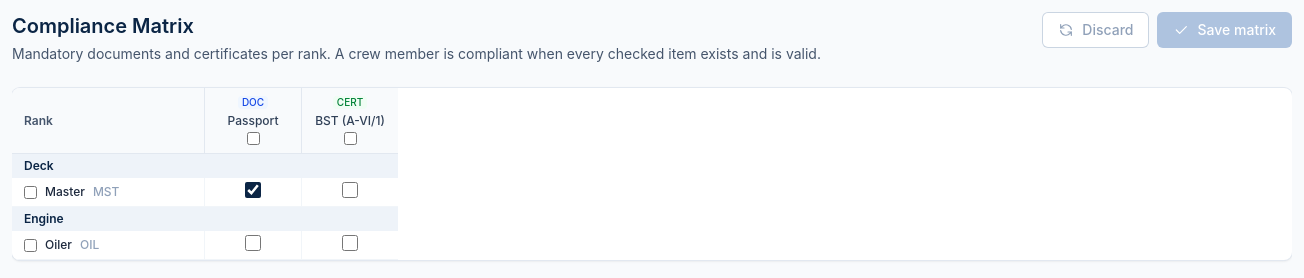
Scenario: compliance matrix › selects a whole row with the row checkbox
Click the checkbox named "Require all items for Master". click: point(30, 192)
box: 24,186 -> 37,199
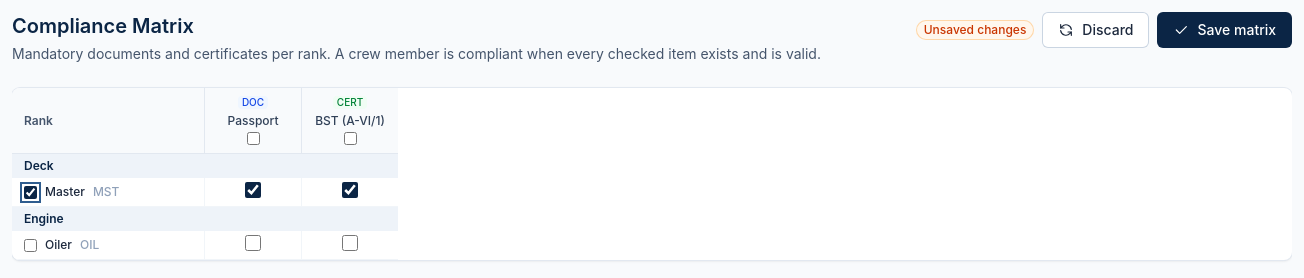
Expected: the checkbox named "Master: Passport" is checked, 245,182 -> 261,198
Expected: the checkbox named "Master: BST (A-VI/1)" is checked, 342,182 -> 358,198
